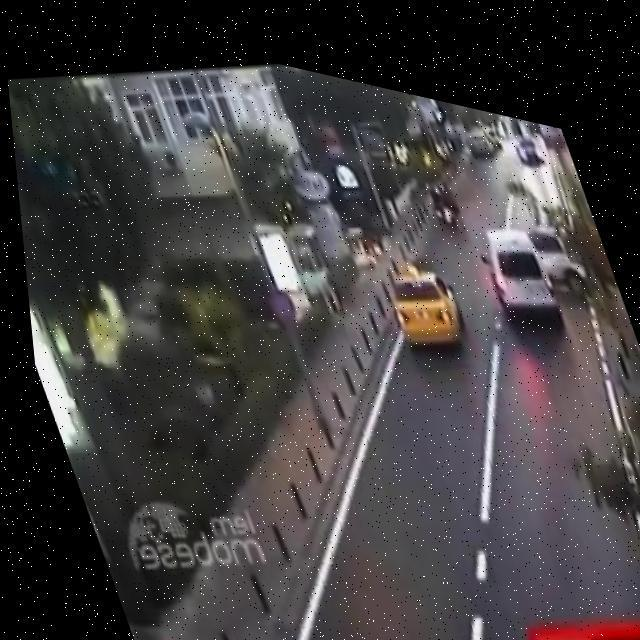Car Accident Detector - v4 Generation1 Exported: (458, 168, 609, 336)
